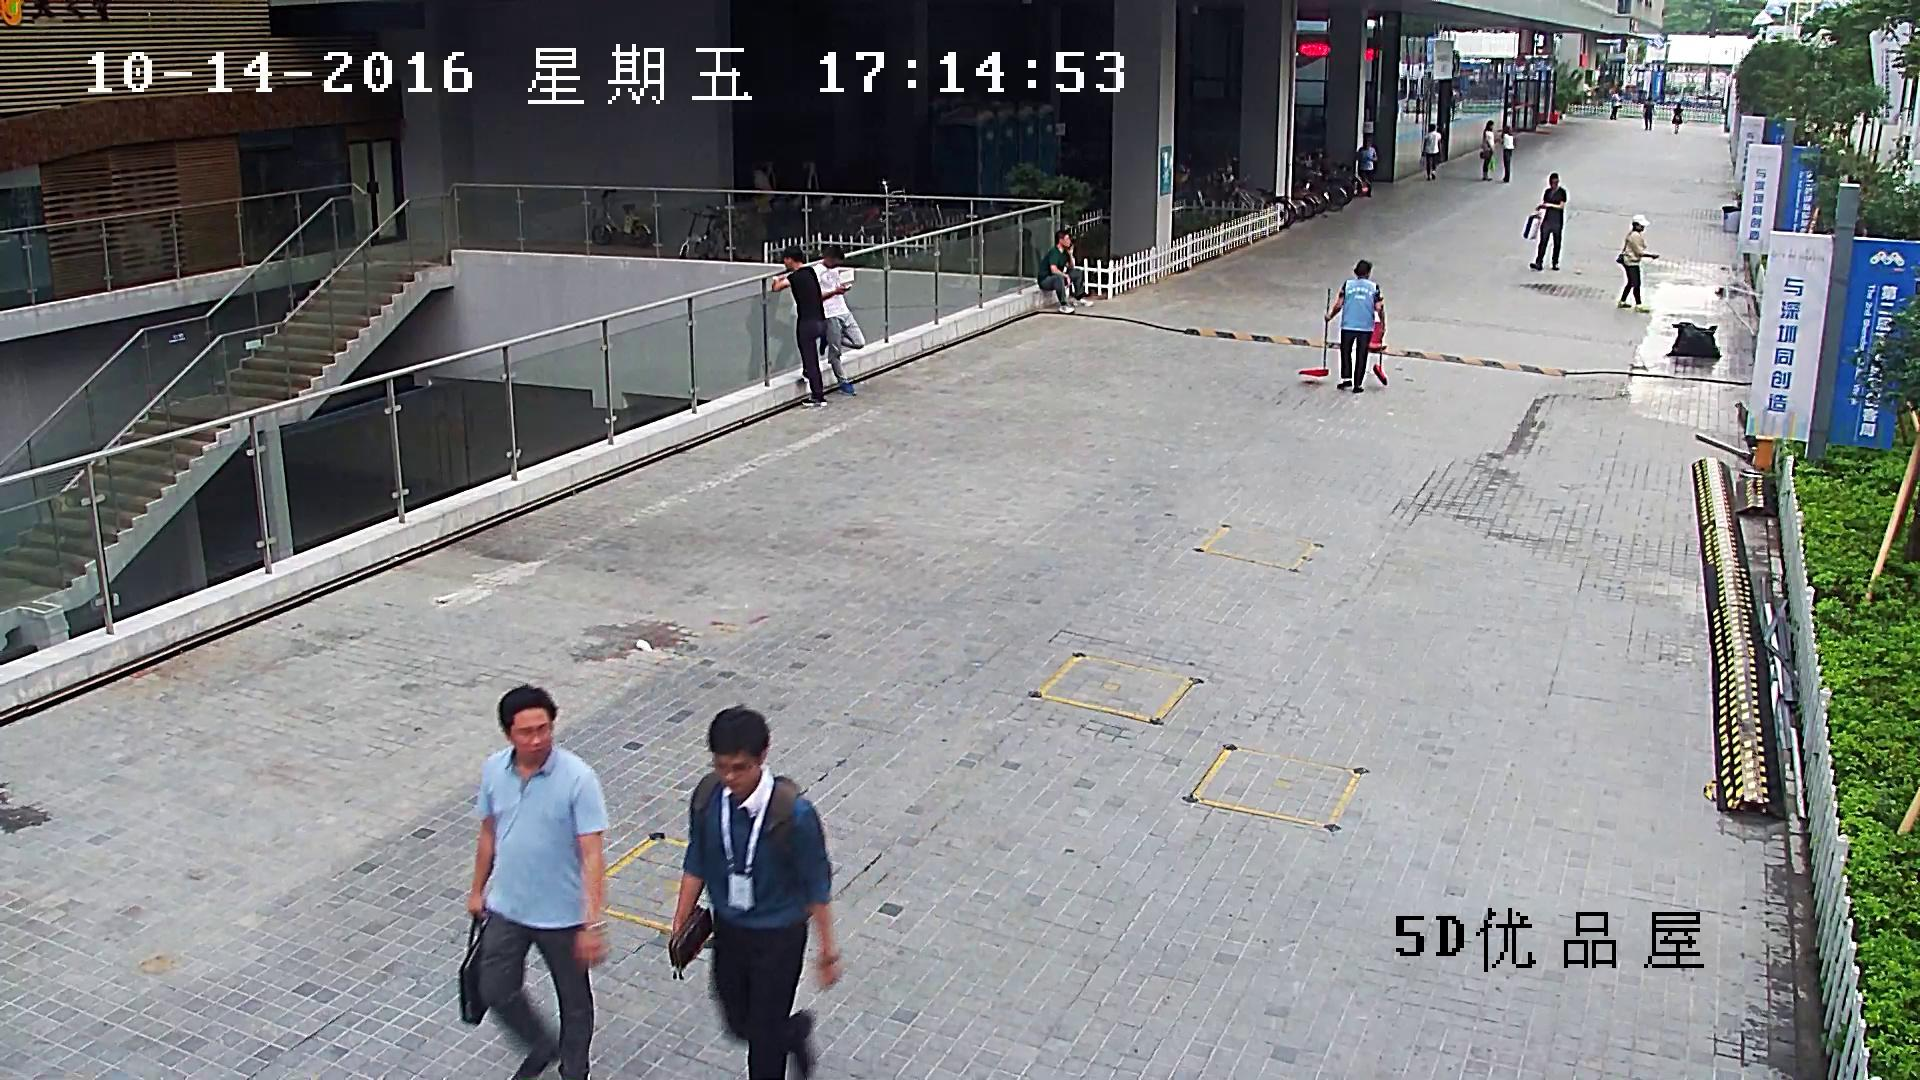person: (667, 705, 841, 1079), (459, 685, 608, 1080), (1298, 261, 1387, 393), (772, 246, 826, 407), (1325, 260, 1384, 393), (813, 246, 865, 396), (1037, 230, 1094, 313), (1615, 215, 1660, 312), (1522, 172, 1565, 271), (1355, 134, 1376, 197), (1480, 119, 1498, 181), (1421, 124, 1441, 180), (1501, 125, 1516, 182), (1672, 102, 1685, 134), (1643, 96, 1654, 129), (1610, 91, 1621, 120)
